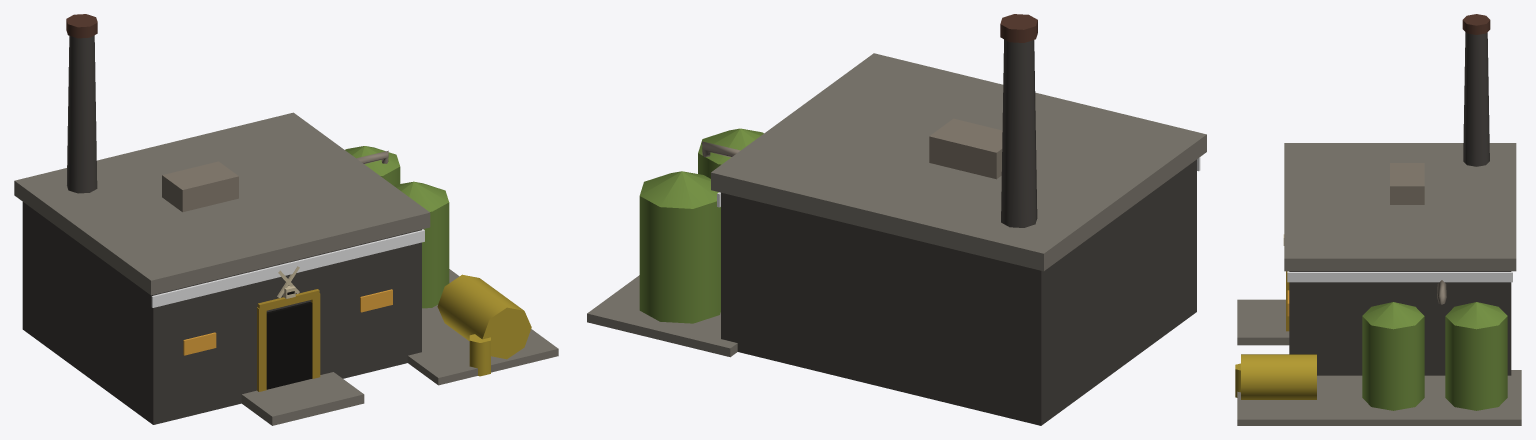
3 views of the same model, side by side, from view 1: azimuth 30°, elevation 25°; view 2: azimuth 150°, elevation 25°; view 3: azimuth 270°, elevation 25° (orthographic). The views are drawn at different scales.
Visible parts, largest first — view 1: raider_building_chemlab; view 2: raider_building_chemlab; view 3: raider_building_chemlab.
Part boxes in pixels (x1=…): raider_building_chemlab: x1=14, y1=14, x2=558, y2=425; raider_building_chemlab: x1=587, y1=14, x2=1206, y2=425; raider_building_chemlab: x1=1235, y1=14, x2=1521, y2=425.
Size of the model in its own units: 10.75 by 8.5 by 8.26.
